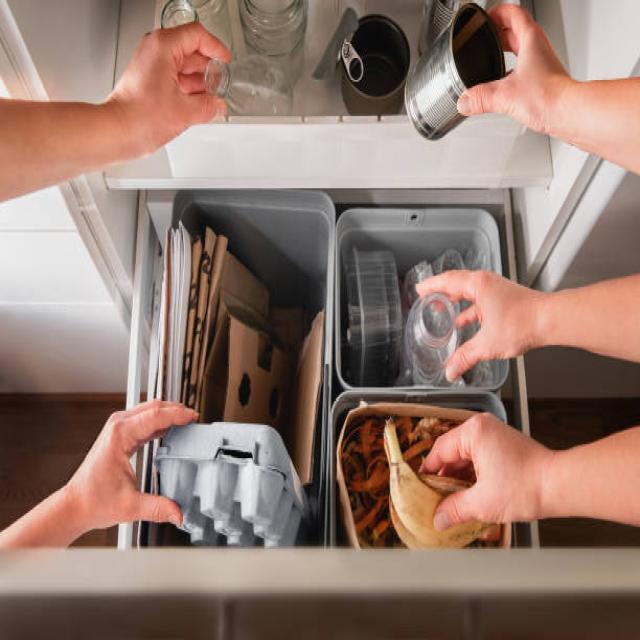cardboard: (179, 237, 305, 549)
glass: (209, 2, 317, 122)
plastic: (340, 243, 460, 366)
